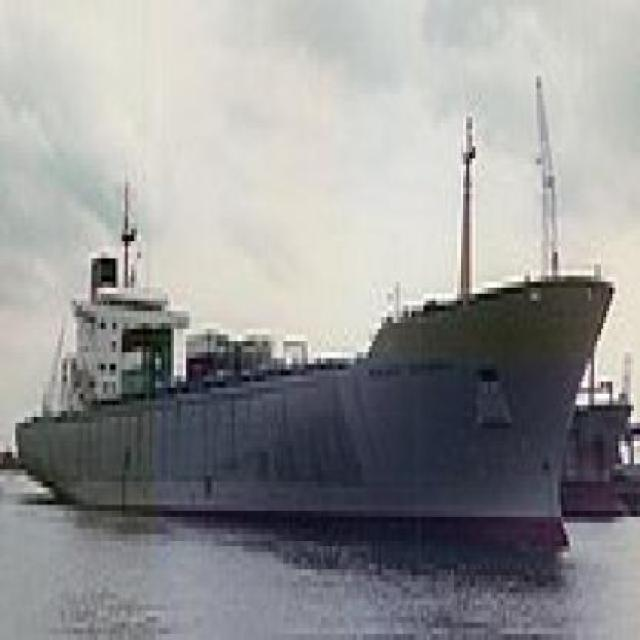container: (13, 54, 629, 600)
